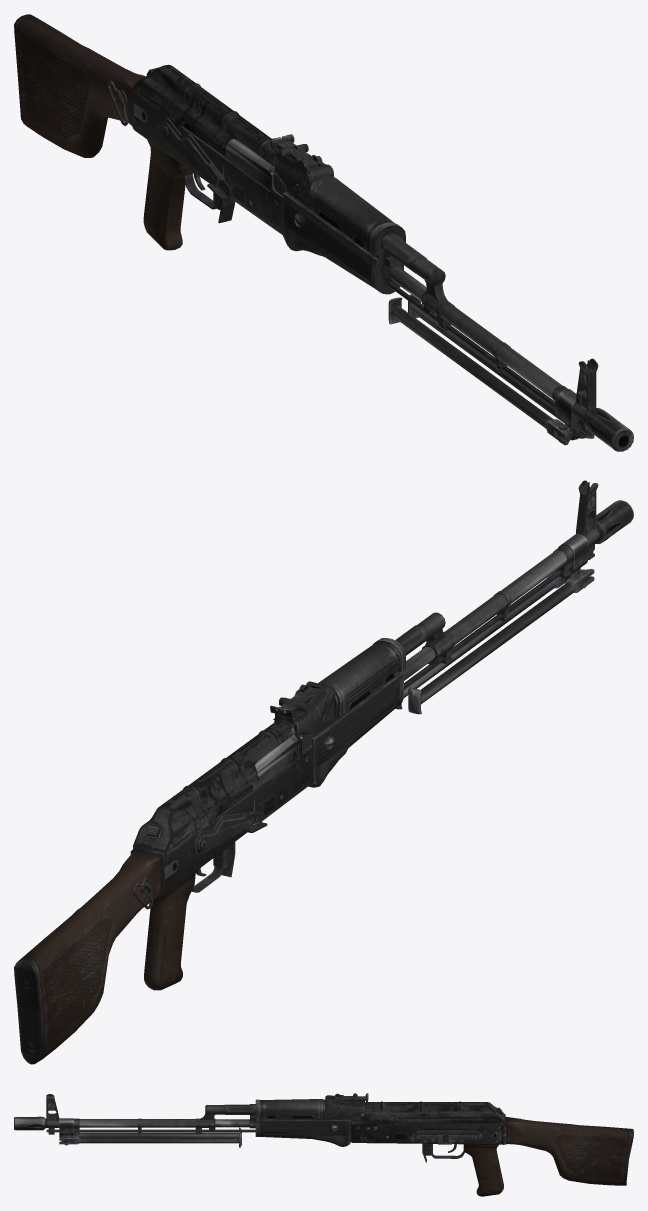
The model's file is rpk.obj.
3 views of the same model, one above another, from view 1: azimuth 30°, elevation 25°; view 2: azimuth 150°, elevation 25°; view 3: azimuth 270°, elevation 25° (orthographic). The views are drawn at different scales.
Visible parts, largest first — view 1: wpn_aka; view 2: wpn_aka; view 3: wpn_aka.
Boxes of the visible parts, <box> form: wpn_aka: <box>14,14,633,451</box>; wpn_aka: <box>14,480,633,1064</box>; wpn_aka: <box>14,1093,633,1196</box>.
Size of the model in its own units: 0.0456 by 0.1915 by 1.07.
Materials: 1 (1 with a texture image).
